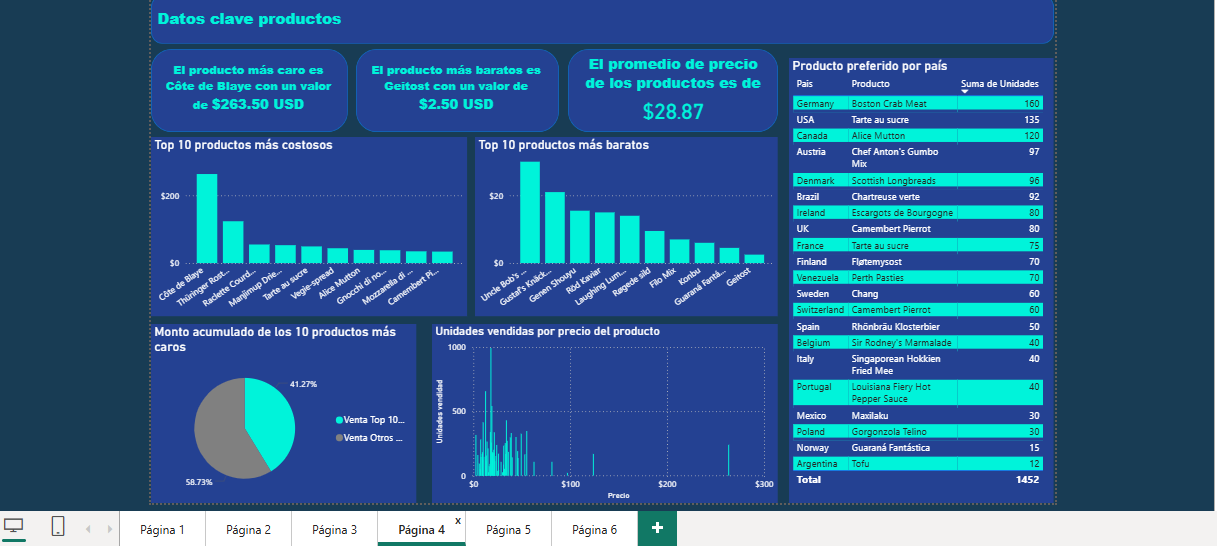

The dashboard page shown, as its layout file describes it:
{"tool":"powerbi","page":{"name":"Página 4","canvas":[1280,720],"ordinal":3},"visuals":[{"type":"group","id":"g1","title":"Grupo 1","box":[0,0,1279.8,69.4],"z":0},{"type":"shape","box":[0,0,1279.8,69.4],"z":0,"group":"g1"},{"type":"shape","box":[0,76.5,279.2,117.6],"z":0,"group":"g2"},{"type":"shape","box":[290.6,76.5,287.7,117.6],"z":0,"group":"g3"},{"type":"shape","box":[591,76.5,297.6,117.6],"z":0,"group":"g4"},{"type":"textbox","box":[4.3,12.8,1269.9,45.4],"z":1000,"group":"g1"},{"type":"group","id":"g2","title":"Grupo 2","box":[0,76.5,279.2,117.6],"z":1000},{"type":"card","title":"El promedio de precio de los productos es de","fields":{"Values":["Avg(Productos_ventas.Precio)"]},"box":[602.1,82.2,275.4,106.3],"z":1000,"group":"g4"},{"type":"textbox","box":[6.8,89.5,261.9,92],"z":1000,"group":"g2"},{"type":"textbox","box":[297.6,89.5,269.8,92],"z":1000,"group":"g3"},{"type":"clusteredColumnChart","title":"Unidades vendidas por precio del producto","fields":{"Category":["Productos_ventas.Precio"],"Y":["Sum(Productos_ventas.UnidadesVendidas)"]},"box":[398.3,466.3,490.4,253.7],"z":2000},{"type":"clusteredColumnChart","title":"Top 10 productos más costosos","fields":{"Category":["Productos_ventas.Producto"],"Y":["Sum(Productos_ventas.Precio)"]},"box":[0,201.3,447.9,253.7],"z":3000},{"type":"clusteredColumnChart","title":"Top 10 productos más baratos","fields":{"Category":["Productos_ventas.Producto"],"Y":["Sum(Productos_ventas.Precio)"]},"box":[459.2,201.3,429.4,253.7],"z":4000},{"type":"group","id":"g3","title":"Grupo 2","box":[290.6,76.5,287.7,117.6],"z":5000},{"type":"group","id":"g4","title":"Grupo 2","box":[591,76.5,297.6,117.6],"z":6000},{"type":"pieChart","title":"Monto acumulado de los 10 productos más caros","fields":{"Y":["Productos_ventas.Venta Top 10 Caros","Productos_ventas.Venta Otros Productos"]},"box":[0,466.3,375.6,253.7],"z":7000},{"type":"tableEx","title":"Producto preferido por país","fields":{"Values":["Paises_preferencias.Pais","Paises_preferencias.Producto","Sum(Paises_preferencias.Unidades)"]},"box":[904.3,89.3,375,630.7],"z":8000}]}

Visuals, with their boxes on the page's 1280x720 design canvas (x1, y1, x2, y2). These are canvas units, not pixel positions in the 1217x546 screenshot, which may show the page scaled, cropped or inside an application window:
"Grupo 1" group: 0, 0, 1280, 69
shape: 0, 0, 1280, 69
shape: 0, 76, 279, 194
shape: 291, 76, 578, 194
shape: 591, 76, 889, 194
textbox: 4, 13, 1274, 58
"Grupo 2" group: 0, 76, 279, 194
"El promedio de precio de los productos es de" card: 602, 82, 878, 188
textbox: 7, 90, 269, 182
textbox: 298, 90, 567, 182
"Unidades vendidas por precio del producto" clusteredColumnChart: 398, 466, 889, 720
"Top 10 productos más costosos" clusteredColumnChart: 0, 201, 448, 455
"Top 10 productos más baratos" clusteredColumnChart: 459, 201, 889, 455
"Grupo 2" group: 291, 76, 578, 194
"Grupo 2" group: 591, 76, 889, 194
"Monto acumulado de los 10 productos más caros" pieChart: 0, 466, 376, 720
"Producto preferido por país" tableEx: 904, 89, 1279, 720
